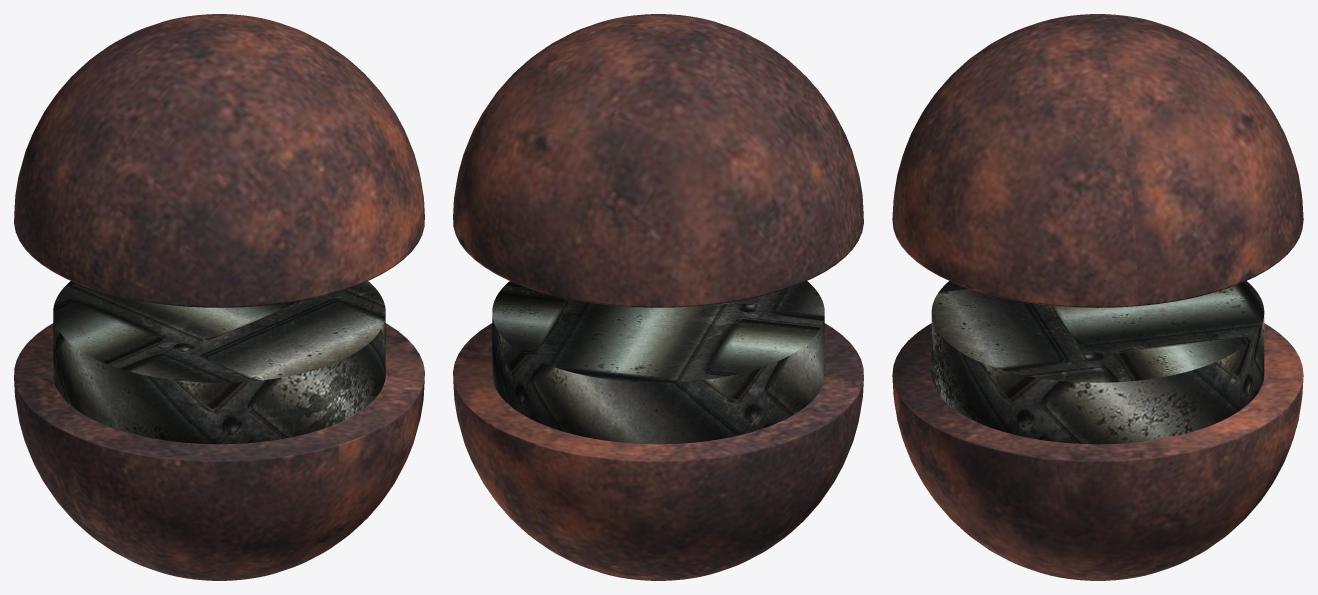
File: droid_anim_000040.obj
3 renders of one model, left to right at view 1: azimuth 30°, elevation 25°; view 2: azimuth 150°, elevation 25°; view 3: azimuth 270°, elevation 25°, orthographic.
Parts seen in each view (by area): view 1: Sphere.004, Sphere.005, Cylinder.002; view 2: Sphere.004, Sphere.005, Cylinder.002; view 3: Sphere.004, Sphere.005, Cylinder.002.
Part boxes in pixels (box(x1,y1,x2,y2)): Sphere.004: box(14, 14, 424, 307); Sphere.005: box(14, 323, 424, 580); Cylinder.002: box(53, 281, 385, 444); Sphere.004: box(453, 14, 863, 307); Sphere.005: box(453, 323, 863, 580); Cylinder.002: box(492, 281, 824, 444); Sphere.004: box(892, 14, 1303, 307); Sphere.005: box(892, 323, 1303, 580); Cylinder.002: box(931, 281, 1264, 444).
Size of the model in its own units: 2 by 2.84 by 2.
3 materials, 3 textured.
